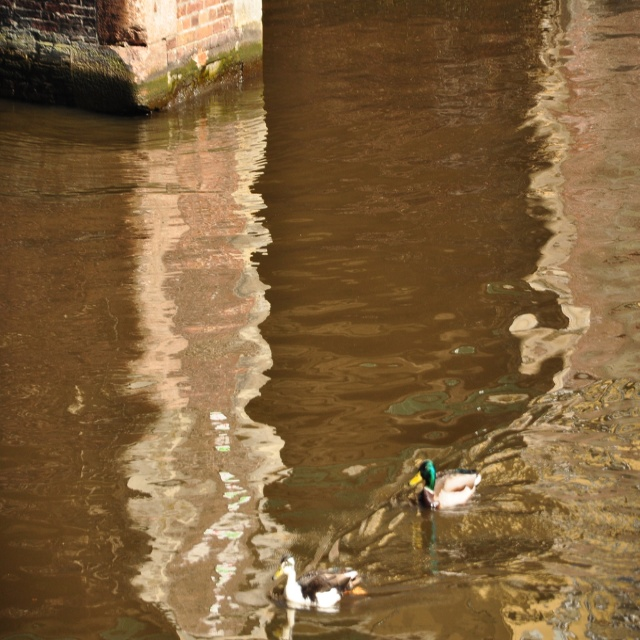Duck: (269, 552, 367, 621), (407, 459, 490, 522)
